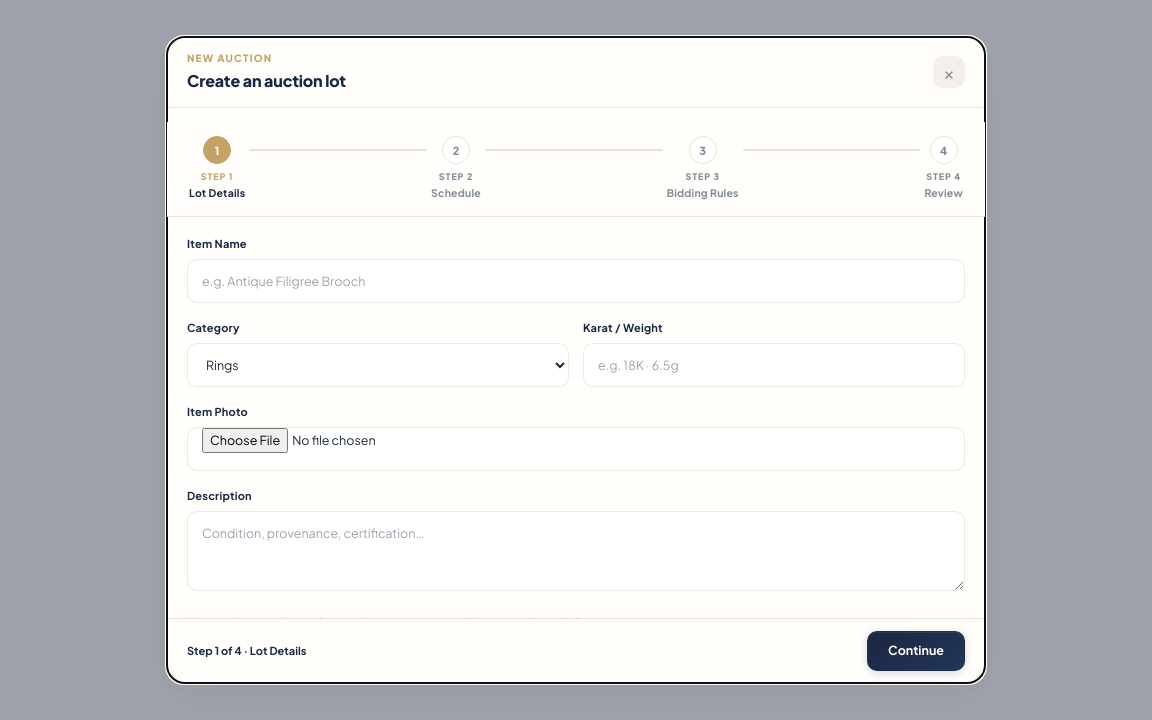
it: increment input renders with default 1000
The width and height of the screenshot is (1152, 720).
Type "Test Ring" into the field with placeholder "e.g. Antique Filigree Brooch" at (576, 280), box [187,258,965,302]
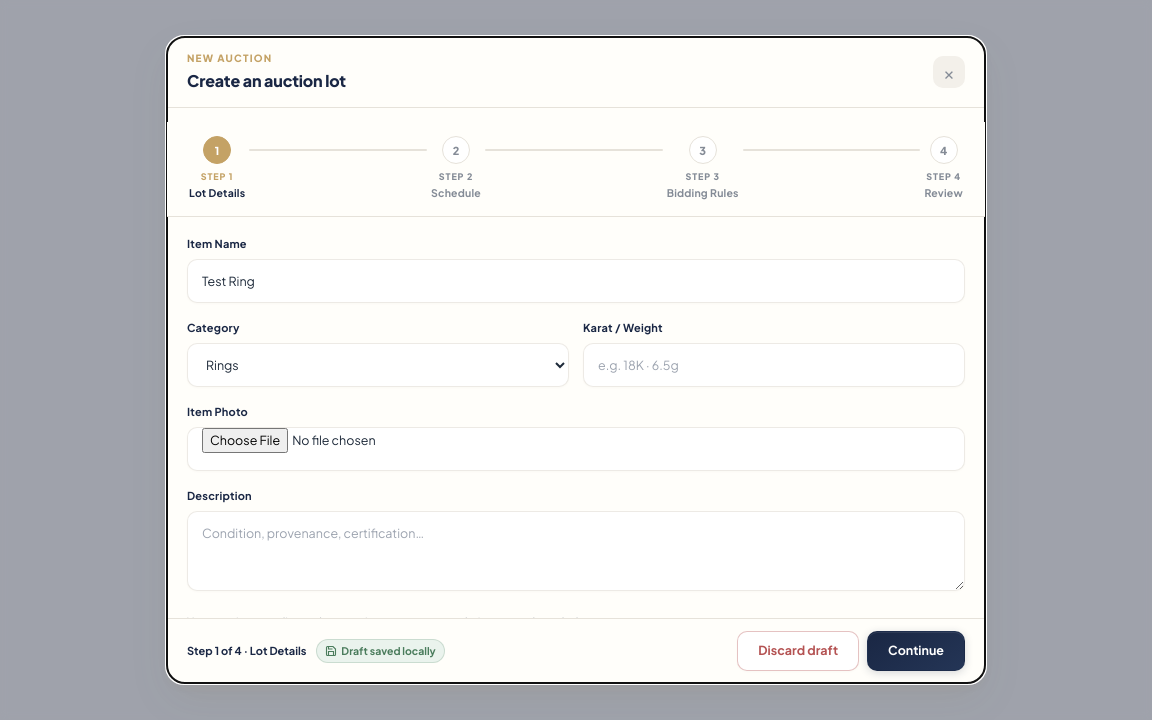
Click the button "Continue" at (916, 651), box [867,631,965,671]
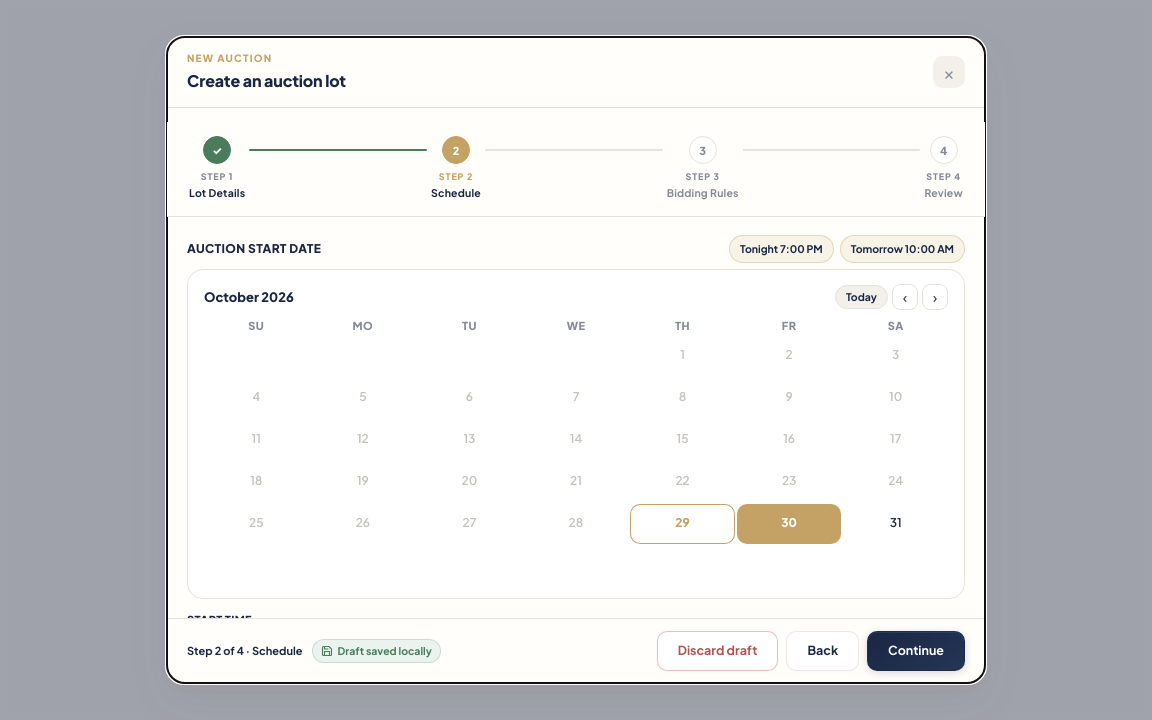
Click the button "Continue" at (916, 651), box [867,631,965,671]
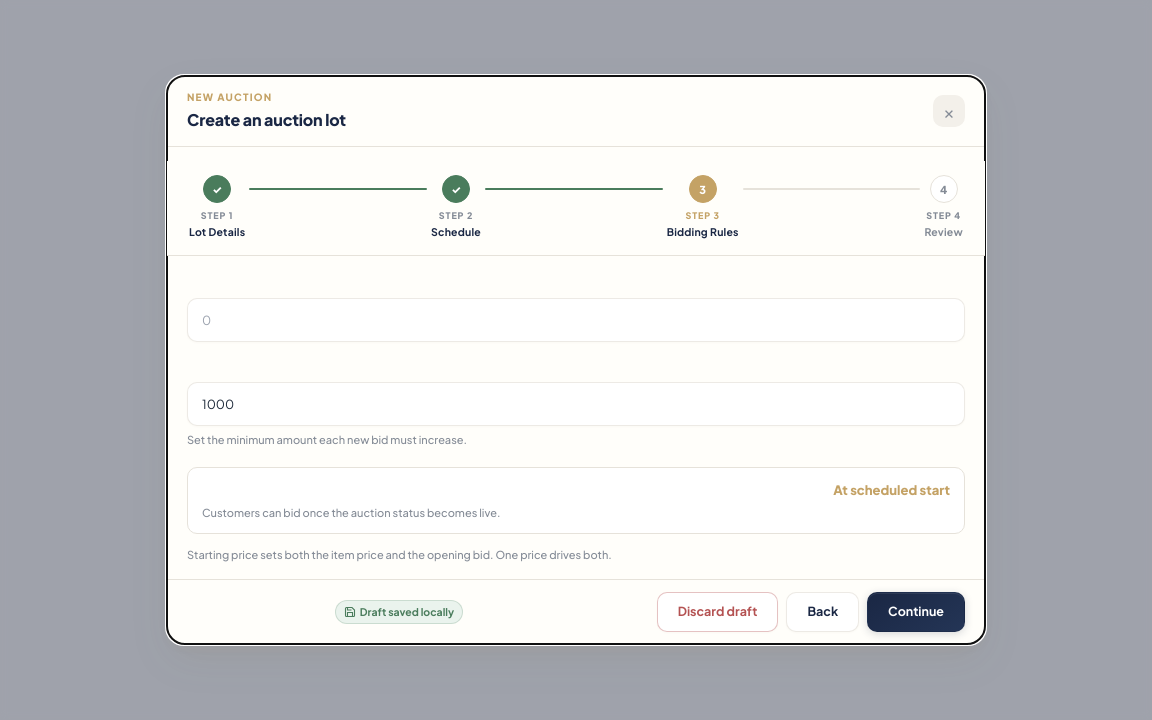
Now the number field labelled "Minimum Bid Increment (₱)" holds "1000", box [187,382,965,426]
